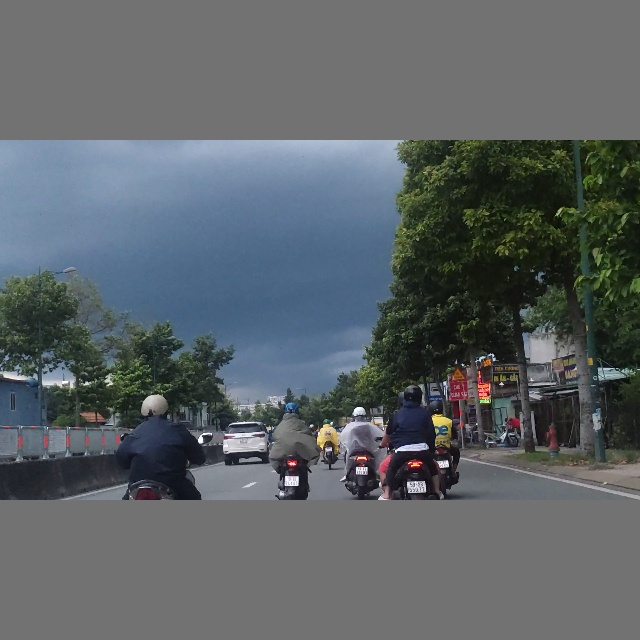I.434a: (428, 382, 444, 401)
W.245a: (450, 367, 466, 381)
